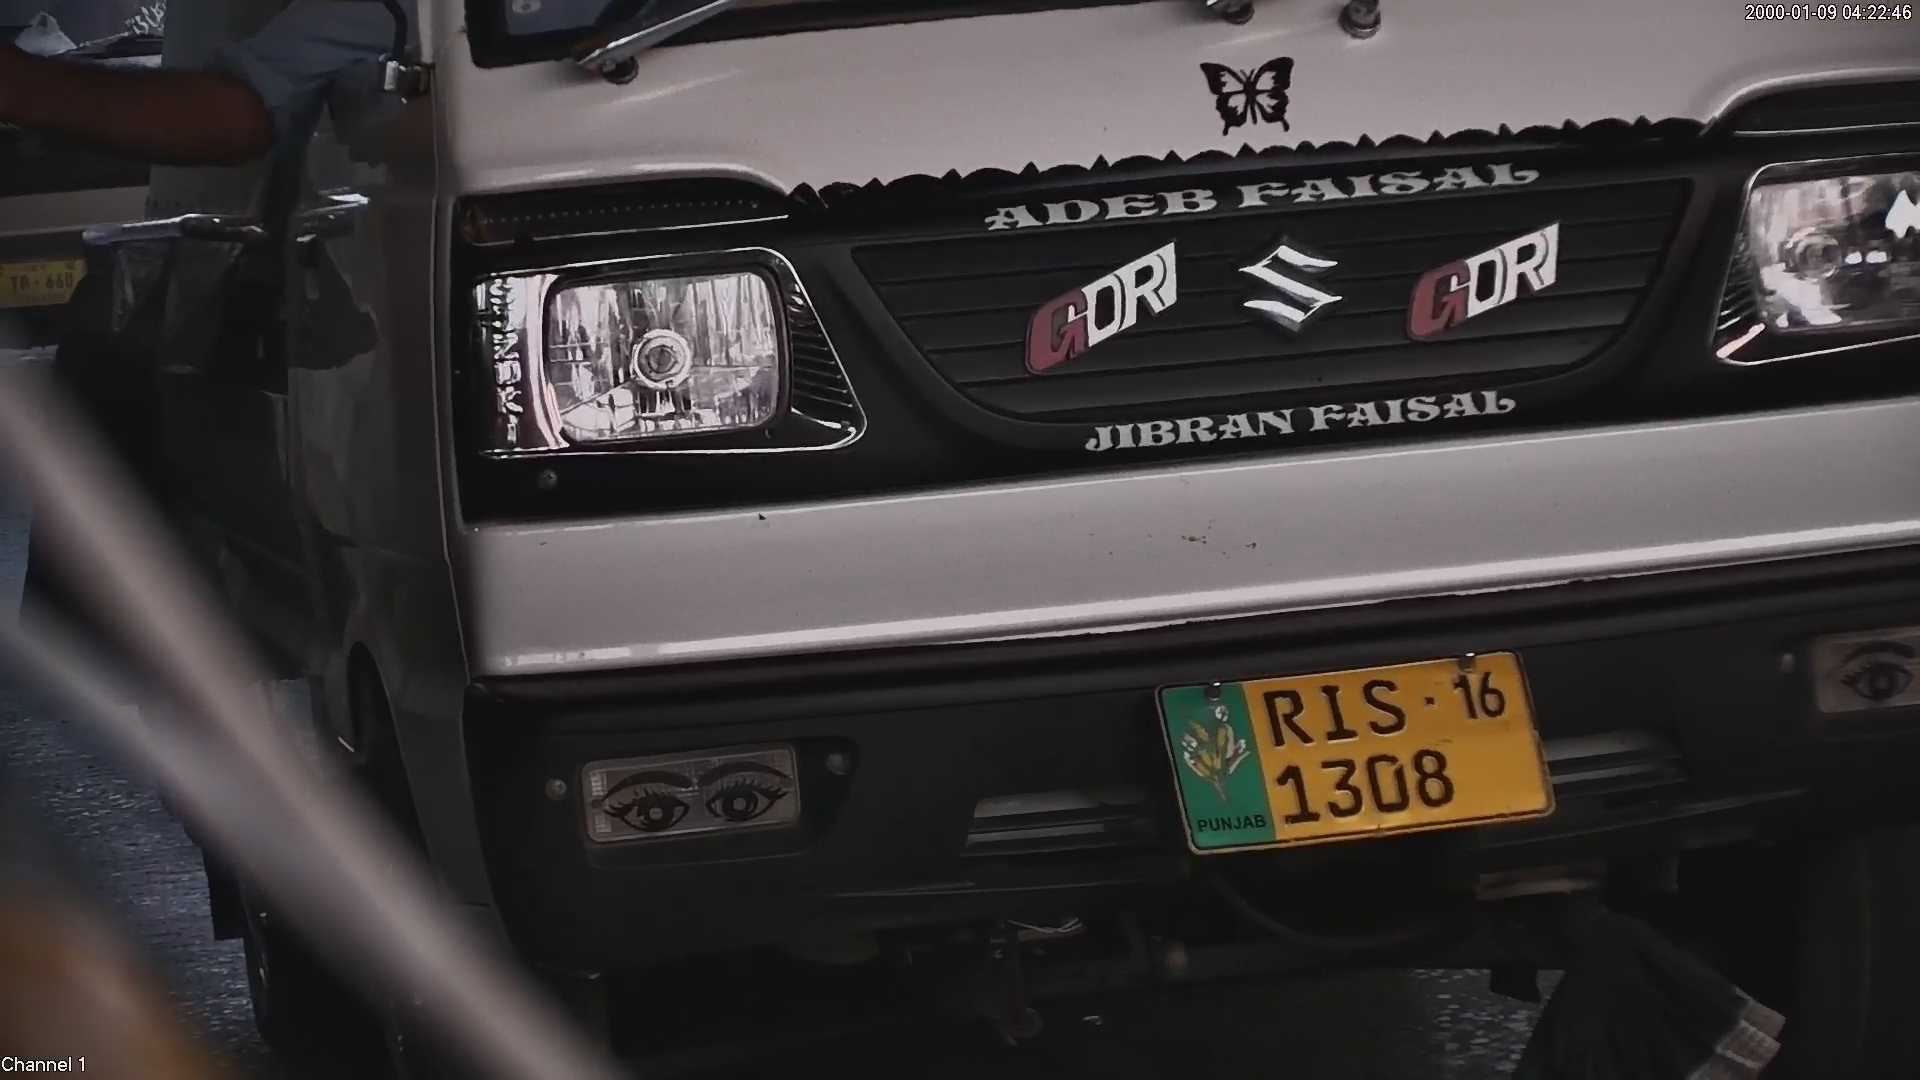Number_Plate: (1132, 640, 1567, 857)
Undefined: (934, 138, 1608, 455), (460, 218, 830, 470), (1708, 129, 1920, 384), (563, 729, 813, 846), (1793, 607, 1920, 723)
